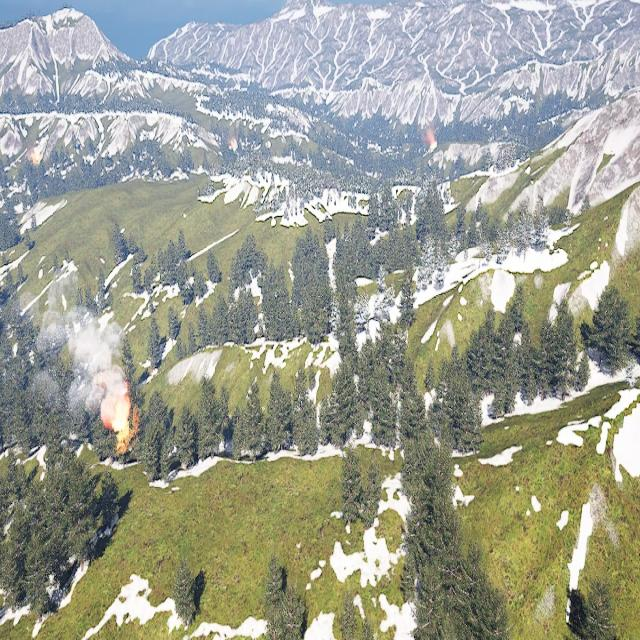fire: (104, 392, 132, 440), (31, 149, 42, 163), (426, 134, 436, 149), (232, 139, 238, 151)
smoke: (29, 267, 125, 416), (422, 106, 437, 139)
